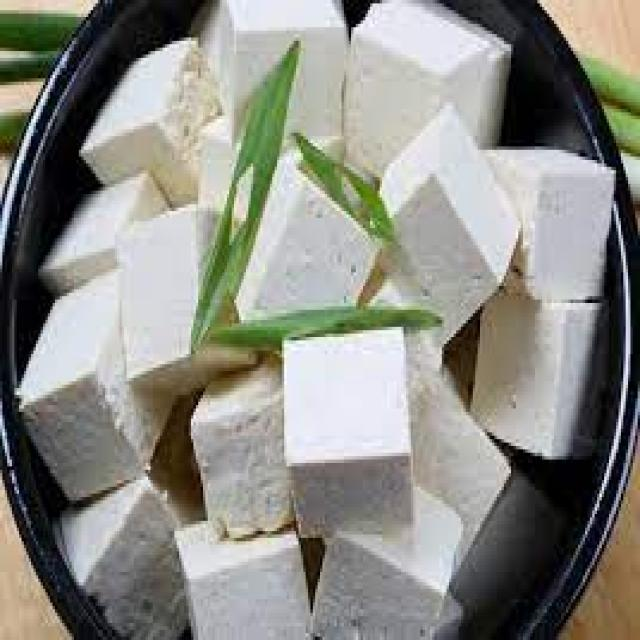tofu: (13, 168, 612, 640)
